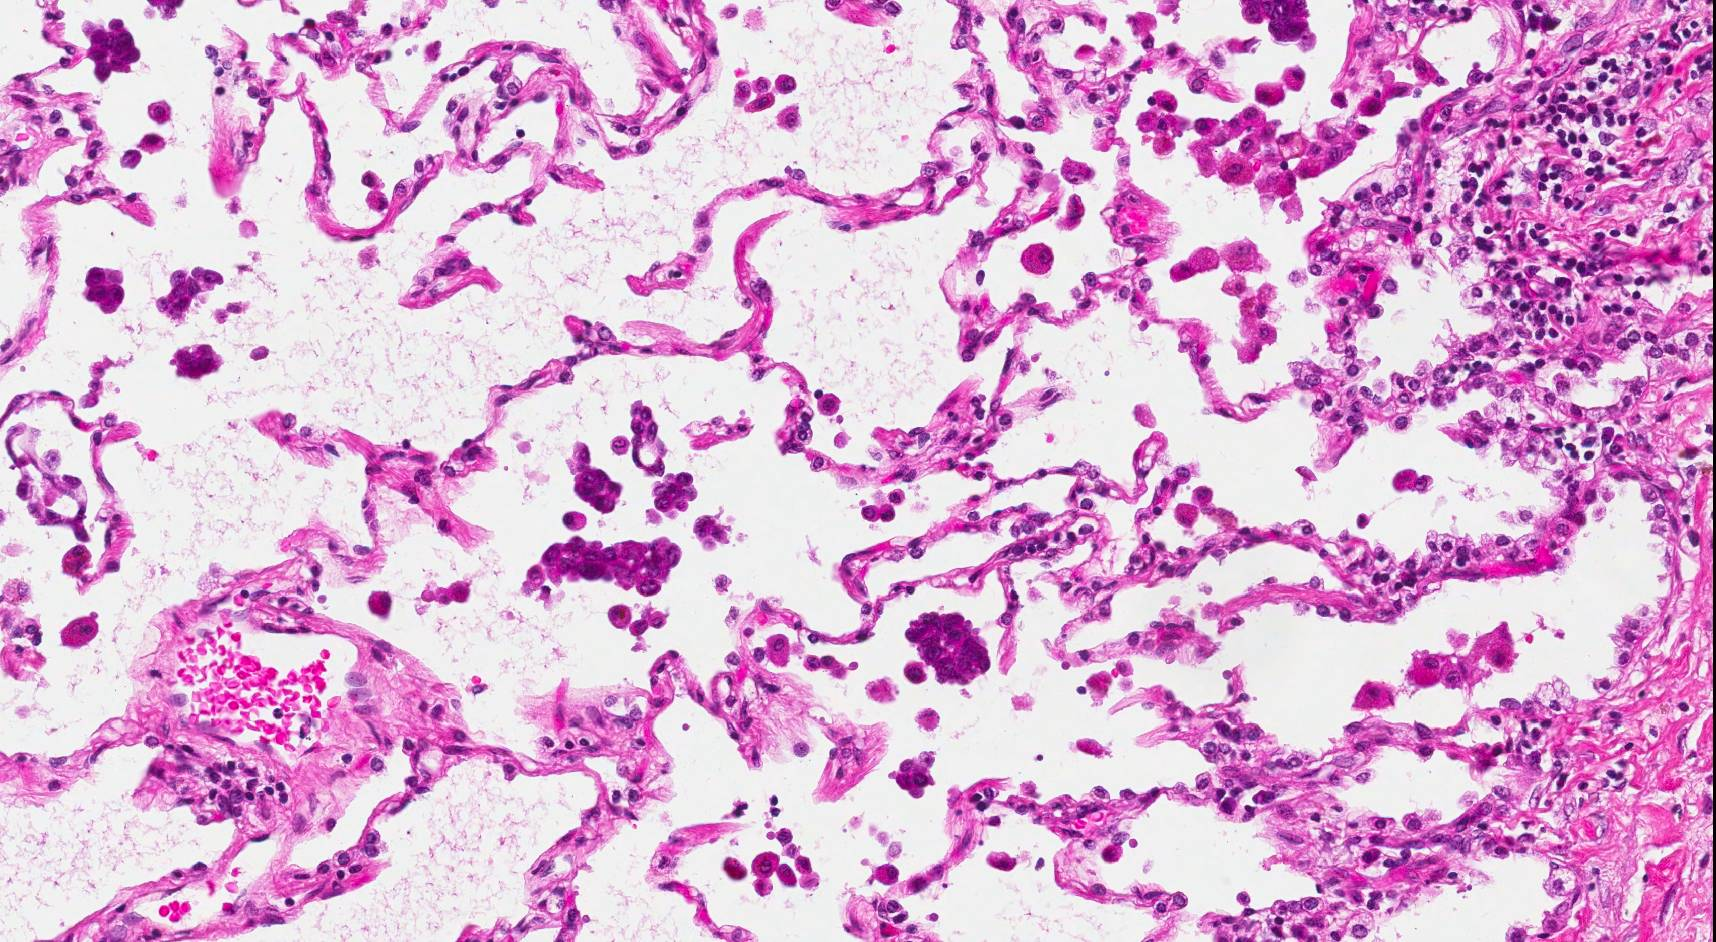stas: (518, 534, 688, 596), (907, 606, 995, 689), (79, 15, 146, 90), (612, 396, 673, 478), (152, 259, 227, 324), (1236, 1, 1327, 54), (565, 437, 624, 516), (76, 259, 131, 325), (888, 750, 943, 802), (172, 339, 229, 383), (647, 470, 701, 514), (696, 513, 732, 550)
